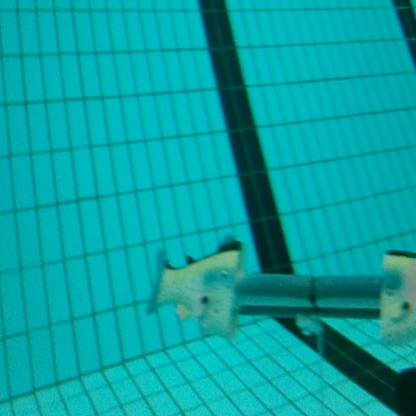tail: (145, 232, 247, 343)
